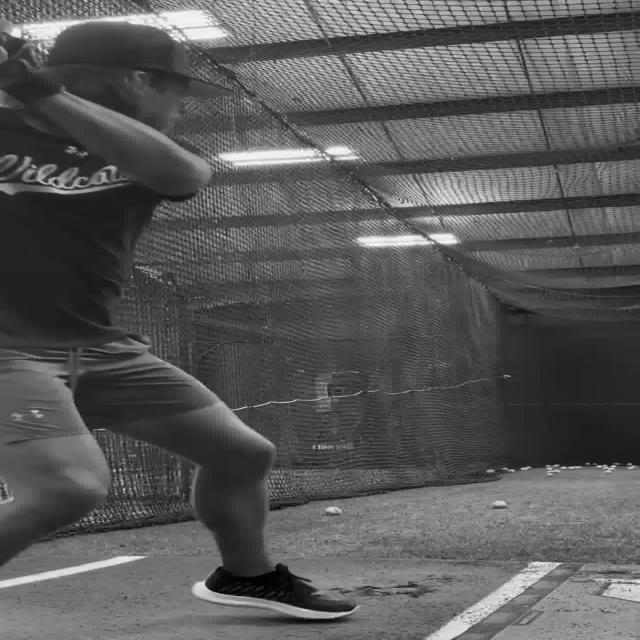baseball: (324, 506, 342, 516), (491, 500, 506, 509)
baseball_glove: (0, 29, 61, 103)
shoe: (190, 562, 358, 620)
